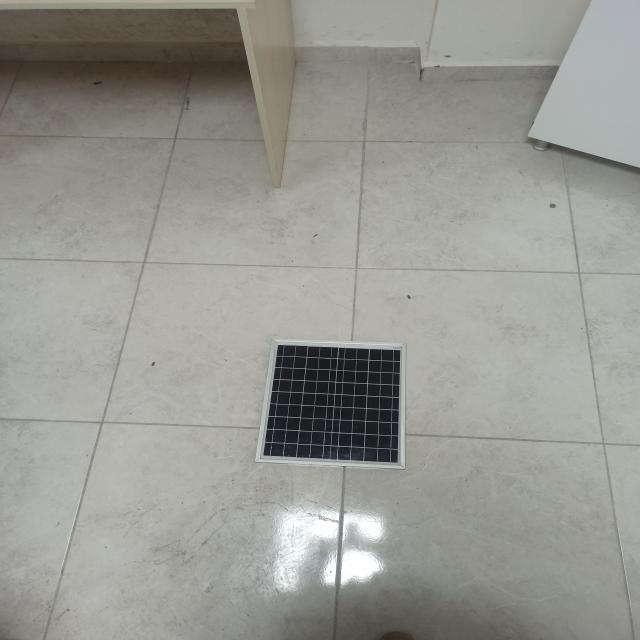no faulty: (258, 342, 405, 469)
